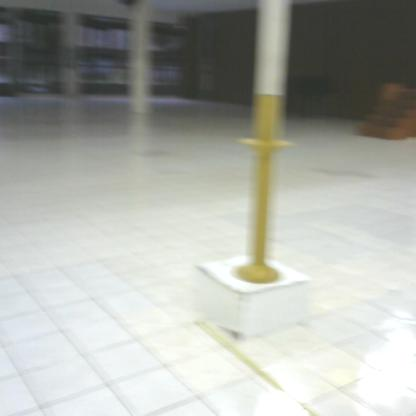pole: (235, 90, 297, 288)
